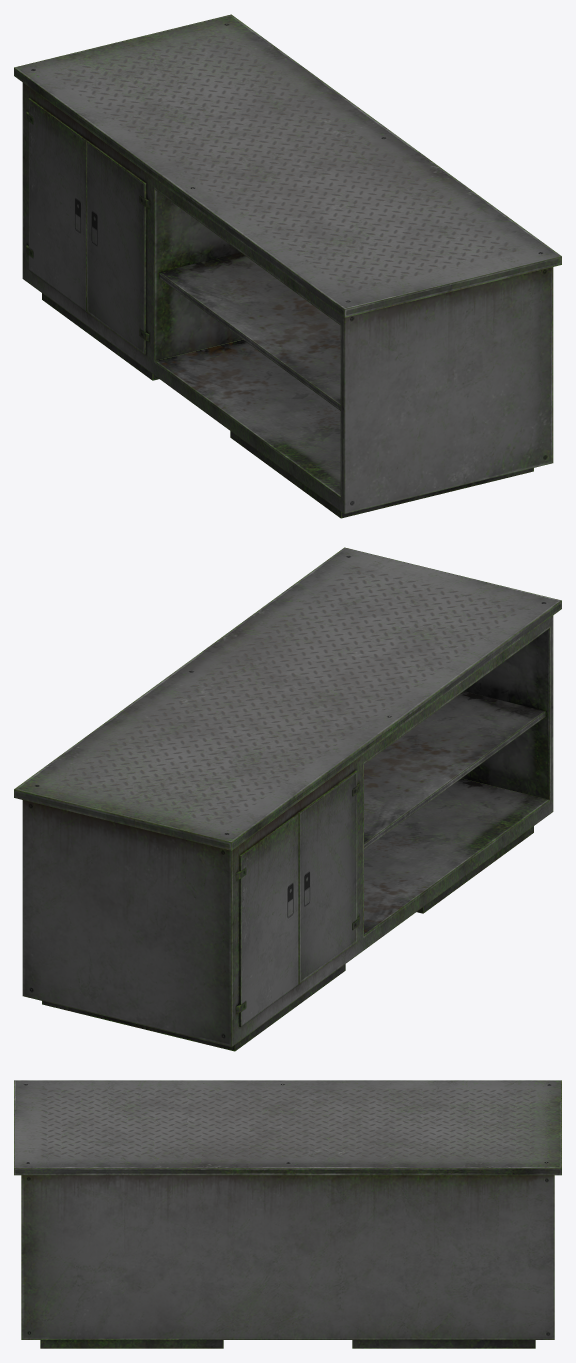
The model's file is low_poly_abandoned_metal_workbench_-_game_ready.glb.
3 renders of one model, top to bottom at view 1: azimuth 30°, elevation 25°; view 2: azimuth 150°, elevation 25°; view 3: azimuth 270°, elevation 25°, orthographic. The views are drawn at different scales.
Visible parts, largest first — view 1: Cube_0; view 2: Cube_0; view 3: Cube_0.
Boxes of the visible parts, <box> form: Cube_0: <box>14,14,561,518</box>; Cube_0: <box>14,547,561,1051</box>; Cube_0: <box>14,1080,561,1348</box>.
Size of the model in its own units: 2.27 by 2.23 by 5.97.
1 material, 1 textured.
